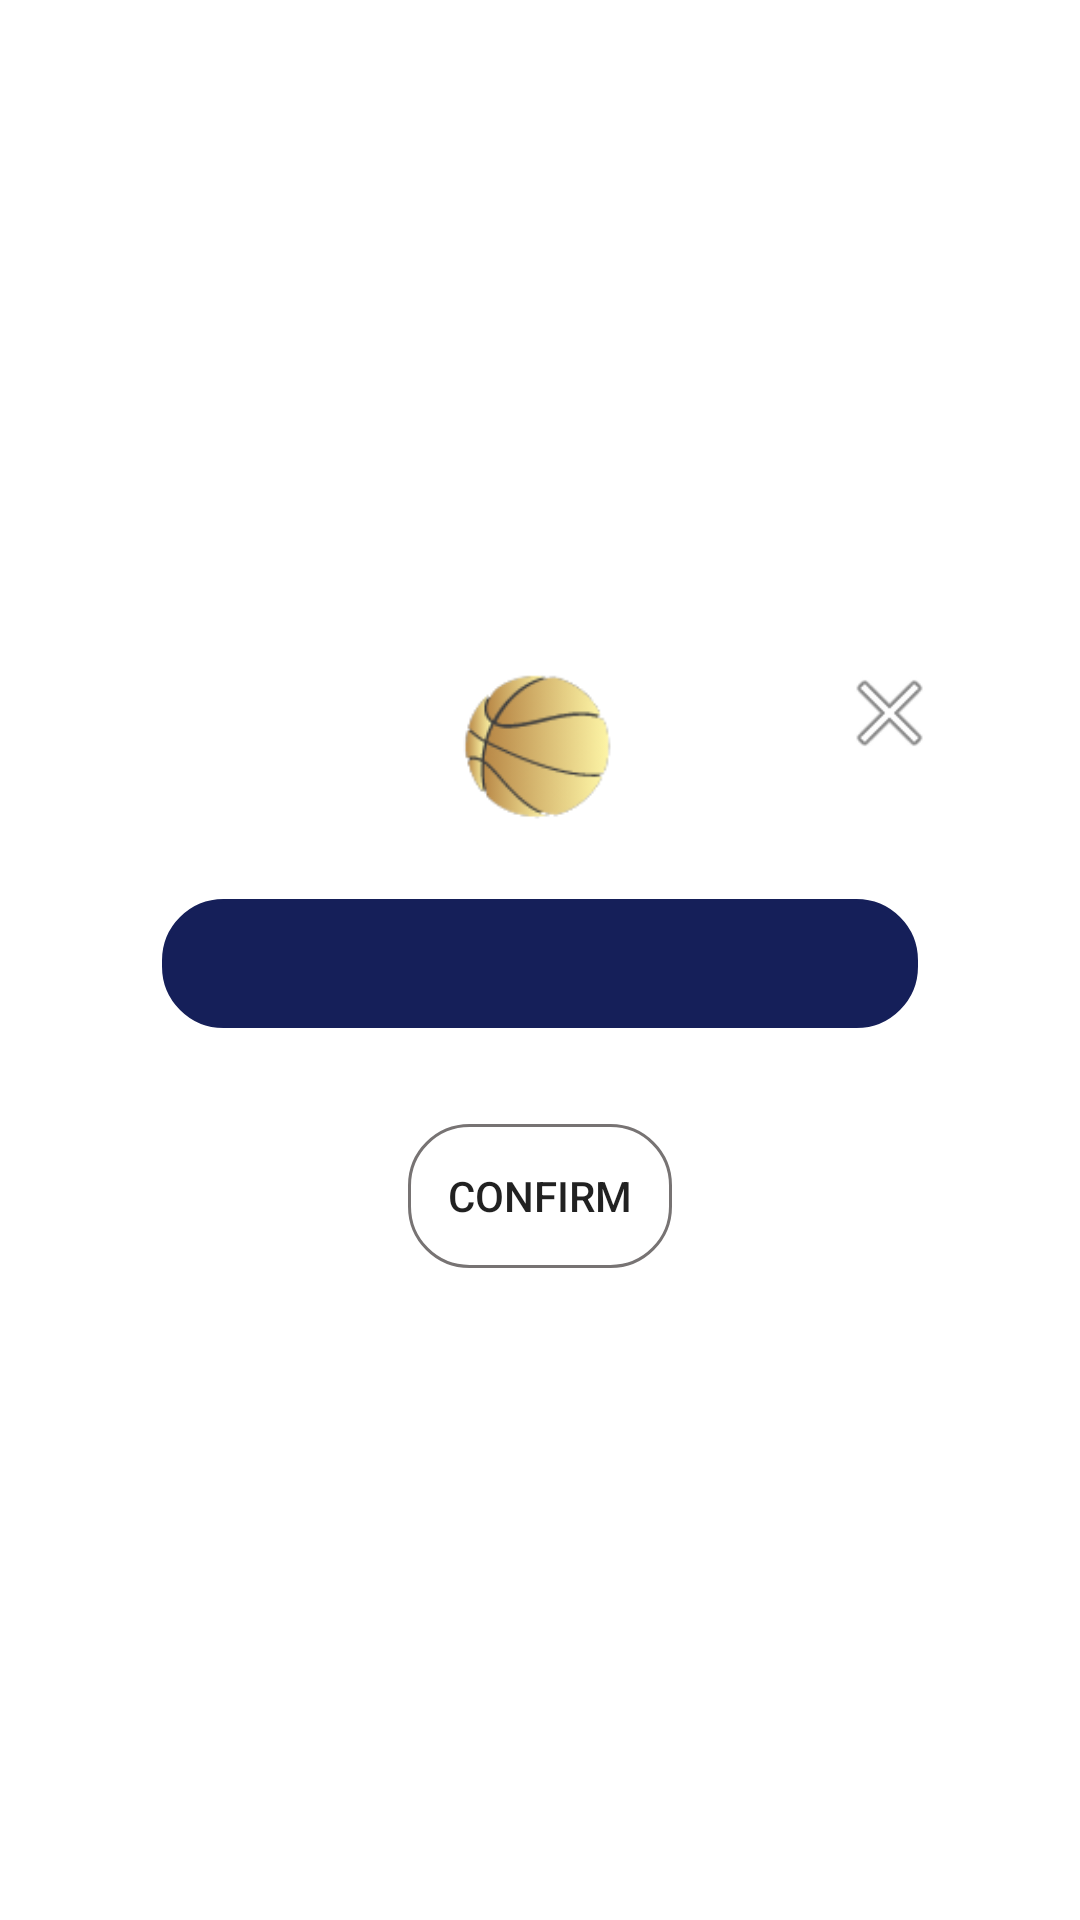

Screen size 1080w x 1920h. Icon name, then its box in pixels as (x1, y1, x2, y2):
basketball: (465, 675, 610, 818)
close clear cancel: (857, 680, 922, 746)
